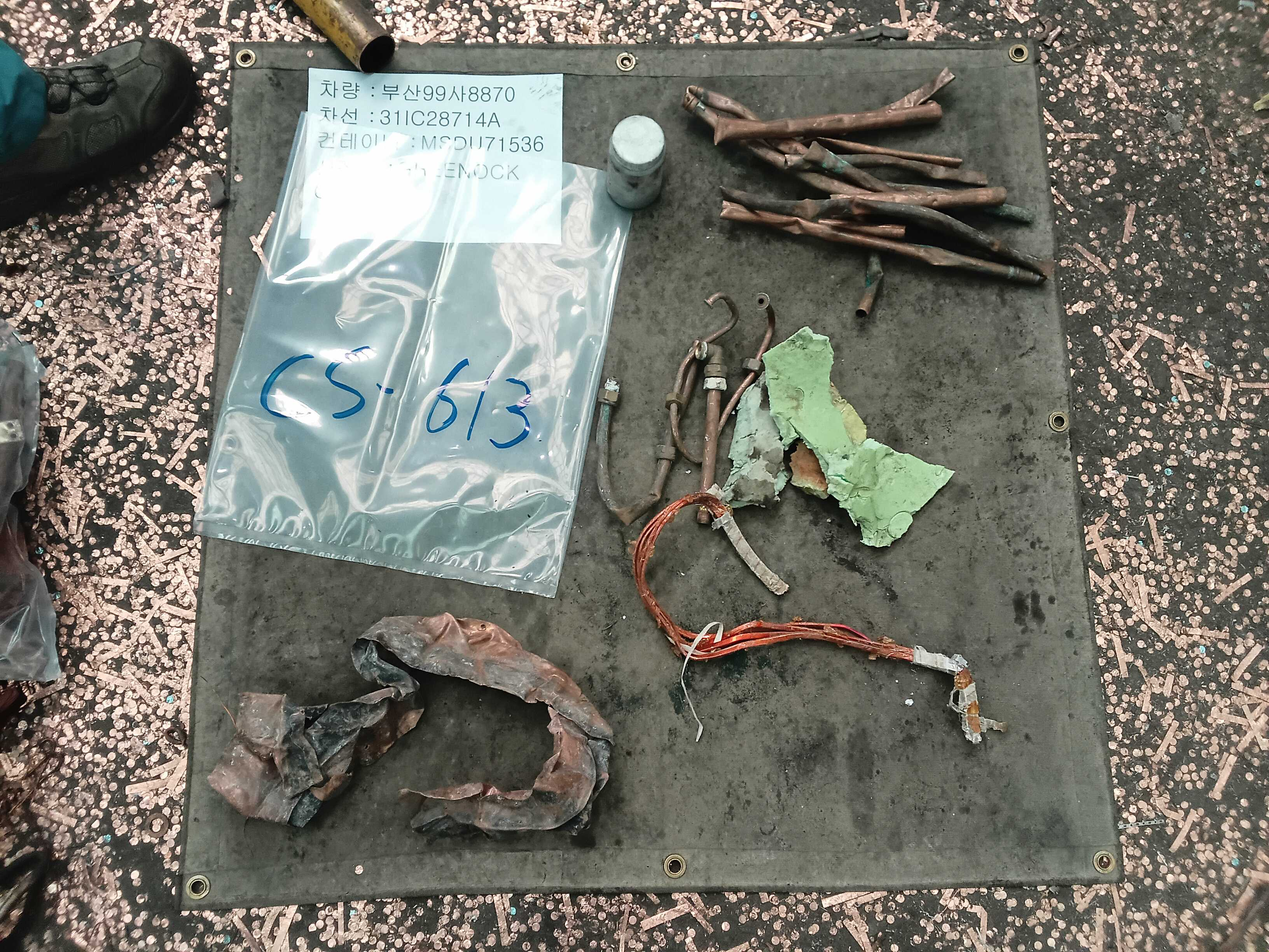Brass_Attach_70: (597, 376, 675, 526), (691, 339, 729, 524)
Clean_Copper_Tubes_98: (713, 100, 944, 145)
Copper_Plates_93: (209, 613, 617, 836)
Non_Metals: (758, 326, 957, 548)
Transformer_Tape: (632, 491, 1006, 745)
